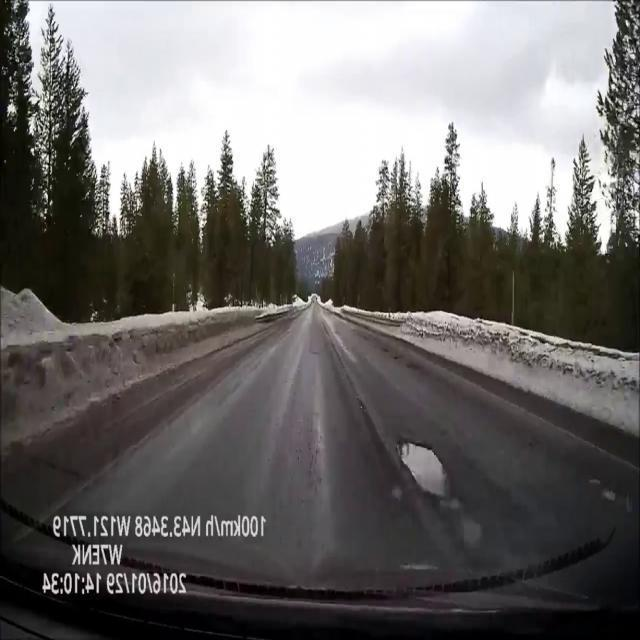pothole: (395, 438, 455, 498)
